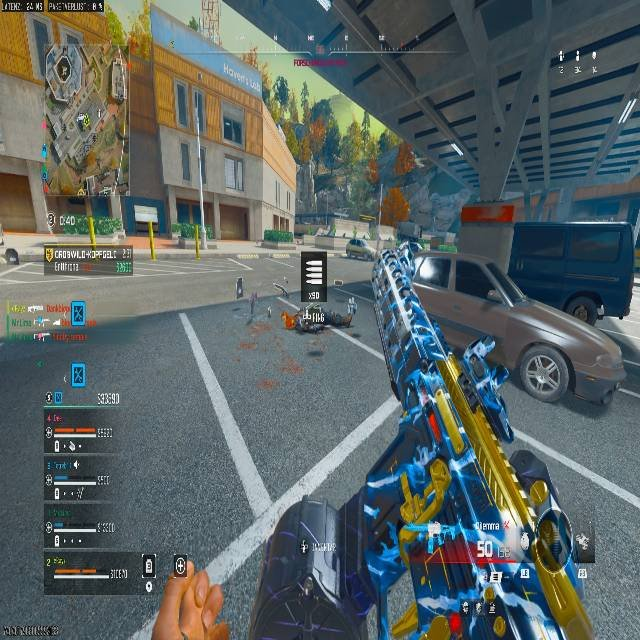player: (146, 556, 231, 639)
